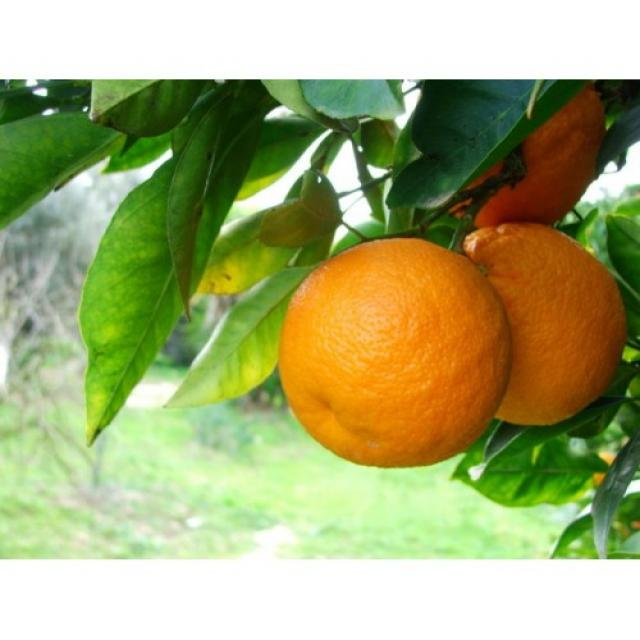orange: (279, 234, 510, 468), (458, 225, 625, 432), (455, 80, 605, 234)
